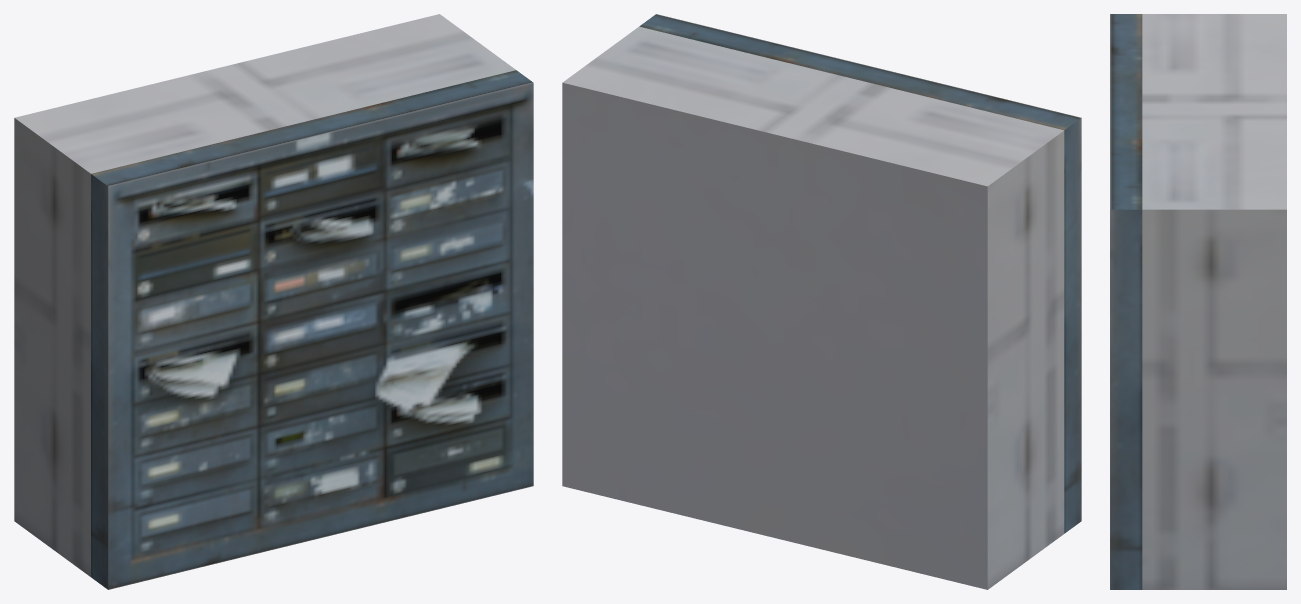
The model's file is PostBoxBig_1.fbx.
3 renders of one model, left to right at view 1: azimuth 30°, elevation 25°; view 2: azimuth 150°, elevation 25°; view 3: azimuth 270°, elevation 25°, orthographic. The views are drawn at different scales.
Visible parts, largest first — view 1: PostBoxBig_1; view 2: PostBoxBig_1; view 3: PostBoxBig_1.
Part boxes in pixels (bbox=[...]): PostBoxBig_1: bbox=[14, 14, 533, 589]; PostBoxBig_1: bbox=[562, 14, 1081, 589]; PostBoxBig_1: bbox=[1110, 14, 1286, 589].
Bounding box in the file's own units: 106 × 96.11 × 40.51.
